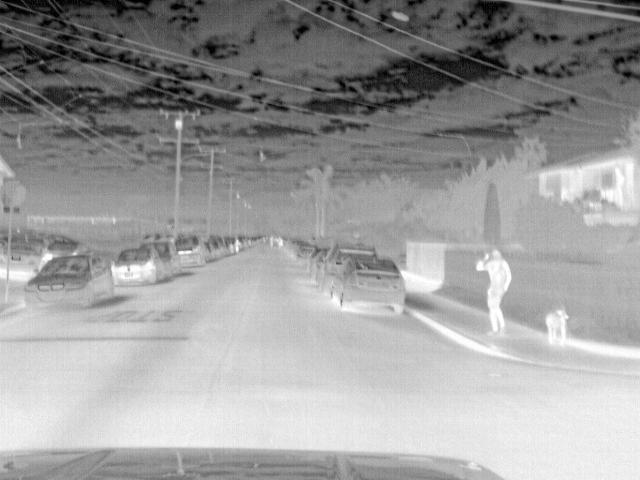car: (25, 252, 117, 310), (326, 256, 407, 318), (323, 246, 381, 295), (110, 248, 164, 284), (35, 239, 81, 273), (142, 239, 181, 276), (173, 236, 209, 267), (305, 248, 327, 278), (291, 244, 317, 264)
dog: (541, 310, 569, 342)
person: (473, 249, 515, 334), (233, 236, 244, 254)
